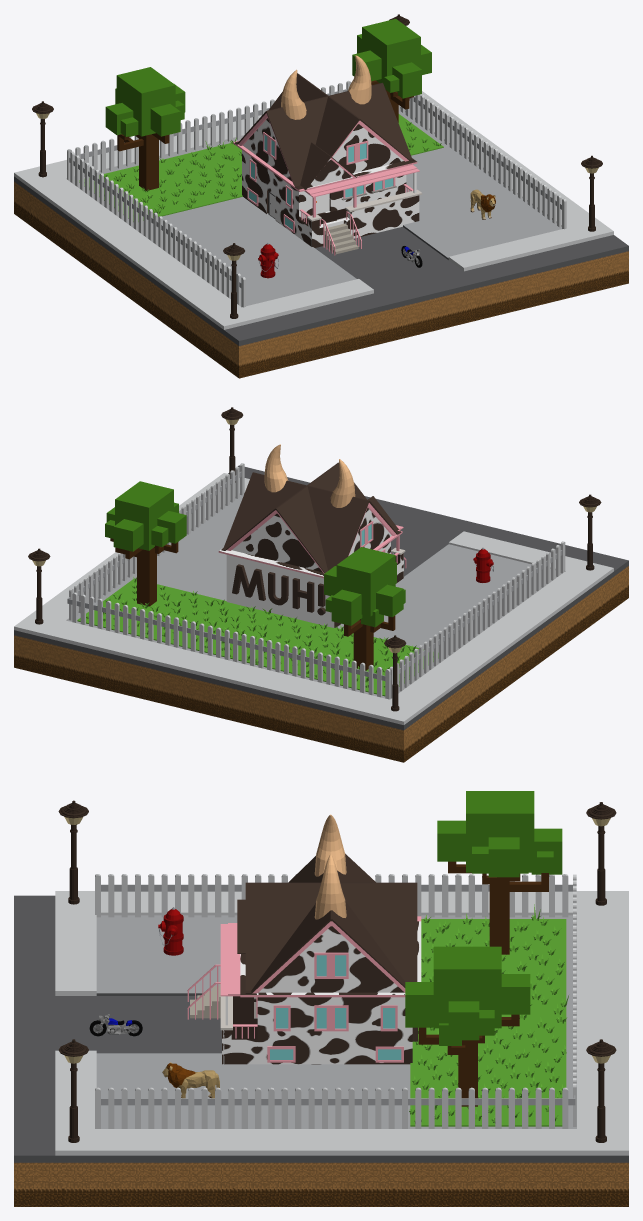
The picture shows the model from 3 angles, top to bottom: view 1: azimuth 30°, elevation 25°; view 2: azimuth 150°, elevation 25°; view 3: azimuth 270°, elevation 25°; orthographic projection. The views are drawn at different scales.
Visible parts, largest first — view 1: Cube.004, Cube.1242, OBJRANDOM_FIRE_HYDRANT, ANIMAL_LEON; view 2: Cube.004, Cube.1242, OBJRANDOM_FIRE_HYDRANT; view 3: Cube.004, Cube.1242, ANIMAL_LEON, OBJRANDOM_FIRE_HYDRANT, VEHICLES_CHOPPER.
Boxes of the visible parts, x1=… form: Cube.004: x1=14, y1=14, x2=628, y2=378; Cube.1242: x1=233, y1=55, x2=422, y2=255; OBJRANDOM_FIRE_HYDRANT: x1=258, y1=243, x2=278, y2=278; ANIMAL_LEON: x1=470, y1=189, x2=495, y2=219; Cube.004: x1=14, y1=407, x2=628, y2=762; Cube.1242: x1=218, y1=444, x2=406, y2=627; OBJRANDOM_FIRE_HYDRANT: x1=473, y1=547, x2=493, y2=582; Cube.004: x1=14, y1=791, x2=628, y2=1206; Cube.1242: x1=187, y1=814, x2=421, y2=1064; ANIMAL_LEON: x1=162, y1=1062, x2=219, y2=1098; OBJRANDOM_FIRE_HYDRANT: x1=158, y1=907, x2=183, y2=955; VEHICLES_CHOPPER: x1=89, y1=1014, x2=142, y2=1036.
Size of the model in its own units: 4000 by 1868 by 4000.
34 materials, 3 textured.
